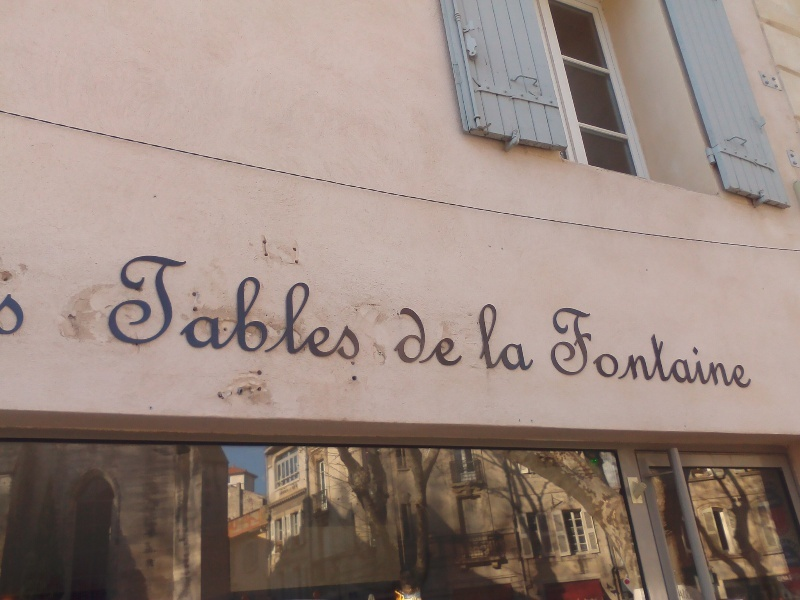text: (113, 248, 128, 361), (129, 248, 144, 361), (145, 248, 160, 361), (161, 248, 176, 361), (177, 248, 192, 361), (193, 248, 208, 361), (209, 248, 224, 361), (225, 248, 240, 361), (241, 248, 256, 361), (257, 248, 272, 361), (273, 248, 288, 361), (289, 248, 304, 361), (305, 248, 320, 361), (321, 248, 336, 361), (337, 248, 352, 361), (737, 303, 753, 392), (353, 248, 365, 361), (561, 303, 576, 392), (577, 303, 592, 392), (593, 303, 608, 392), (609, 303, 624, 392), (625, 303, 640, 392), (641, 303, 656, 392), (657, 303, 672, 392), (673, 303, 688, 392), (689, 303, 704, 392), (705, 303, 720, 392), (721, 303, 736, 392), (547, 303, 560, 392), (481, 301, 496, 375), (497, 301, 512, 375), (513, 301, 528, 375), (401, 304, 416, 370), (417, 304, 432, 370), (433, 304, 448, 370), (449, 304, 462, 370), (1, 289, 16, 336), (472, 301, 480, 375), (529, 301, 536, 375), (17, 289, 26, 336), (396, 304, 400, 370), (111, 248, 112, 361)
